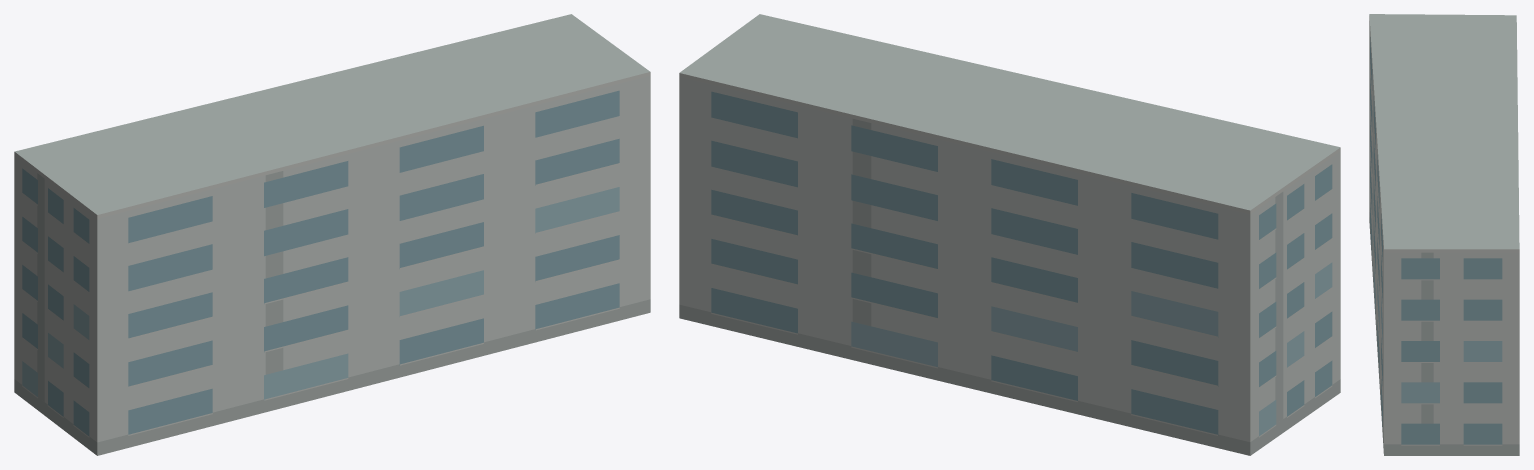
File: residential-f4fa4437-e702-47e8-9e79-64af81c4e323.glb
The picture shows the model from 3 angles, left to right: view 1: azimuth 30°, elevation 25°; view 2: azimuth 150°, elevation 25°; view 3: azimuth 270°, elevation 25°; orthographic projection. The views are drawn at different scales.
Visible parts, largest first — view 1: residential-f4fa4437-e702-47e8-9e79-64af81c4e323.tmp; view 2: residential-f4fa4437-e702-47e8-9e79-64af81c4e323.tmp; view 3: residential-f4fa4437-e702-47e8-9e79-64af81c4e323.tmp.
Boxes of the visible parts, x1,y1,x2,y2 form: residential-f4fa4437-e702-47e8-9e79-64af81c4e323.tmp: (14, 14, 650, 455); residential-f4fa4437-e702-47e8-9e79-64af81c4e323.tmp: (679, 14, 1340, 455); residential-f4fa4437-e702-47e8-9e79-64af81c4e323.tmp: (1369, 14, 1519, 455).
Size of the model in its own units: 37.24 by 15.25 by 10.05.
